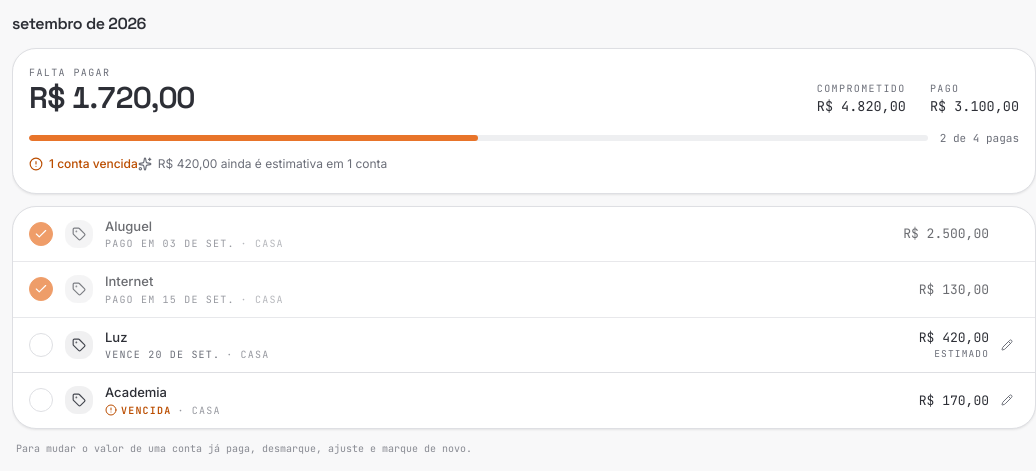
monthly commitment · variable amounts › cancels without sending anything
Click the button named "Valor de Luz neste mês": (1007, 345) [995, 333, 1019, 357]
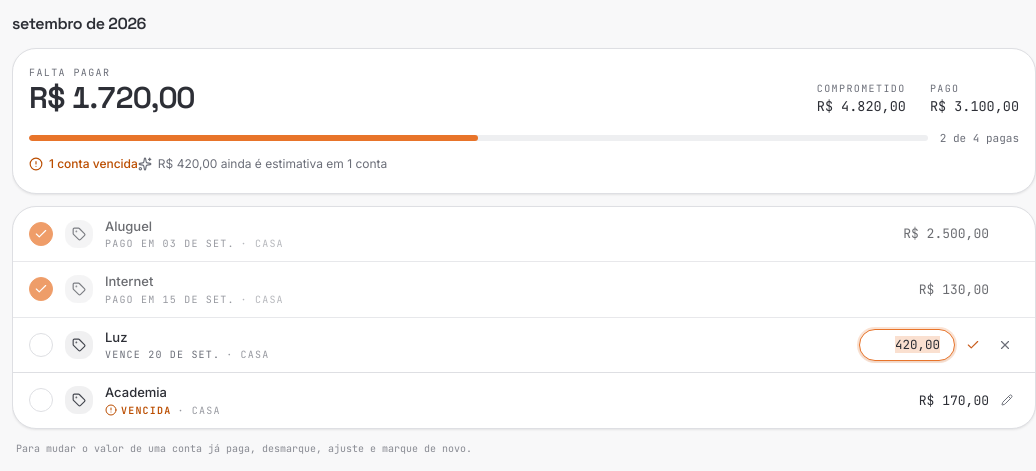
Click the button named "Cancelar": (1005, 345) [991, 331, 1019, 359]
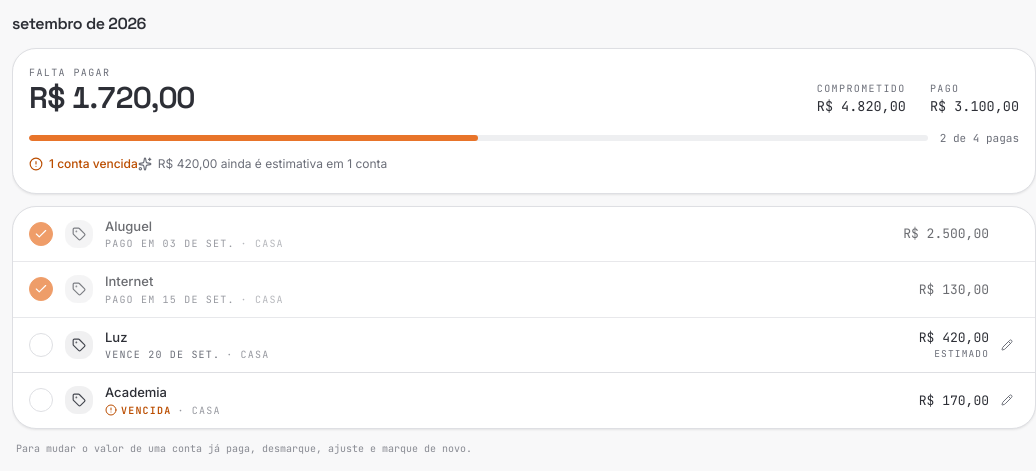
Check: the button named "Valor de Luz neste mês" is shown, box [995, 333, 1019, 357]
